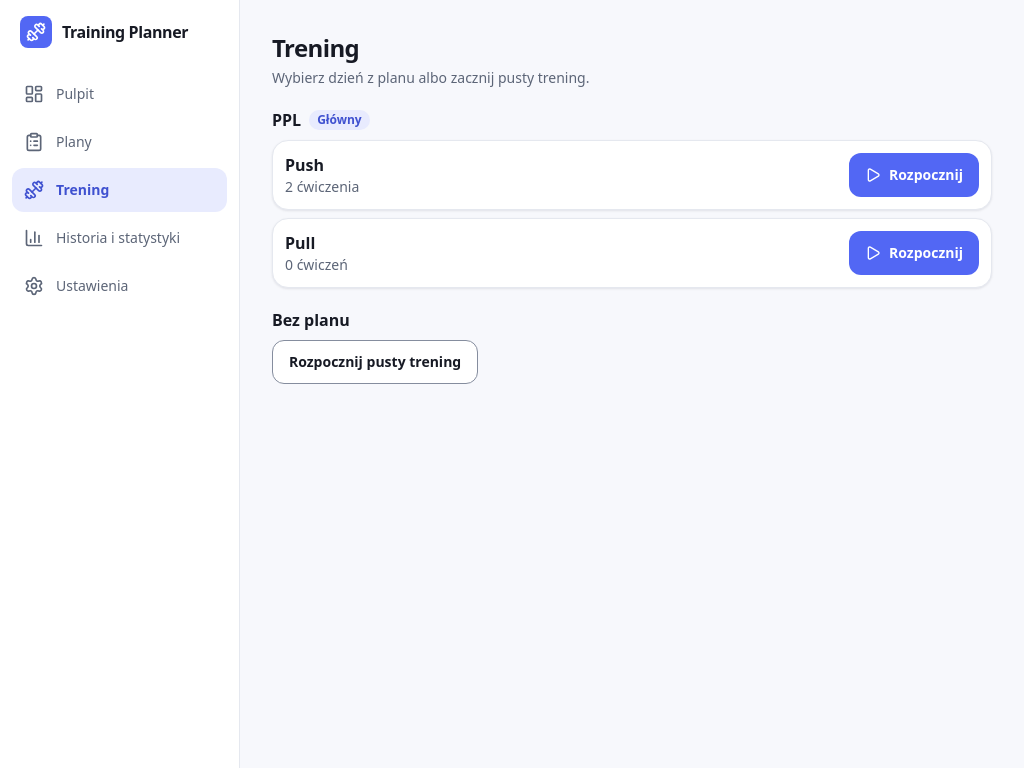
Test: workout › starts from a plan day with nothing pre-recorded; planned values are only hints
Click the button with aria-label "Rozpocznij: Push" at point(914, 175), box [849,153,979,197]
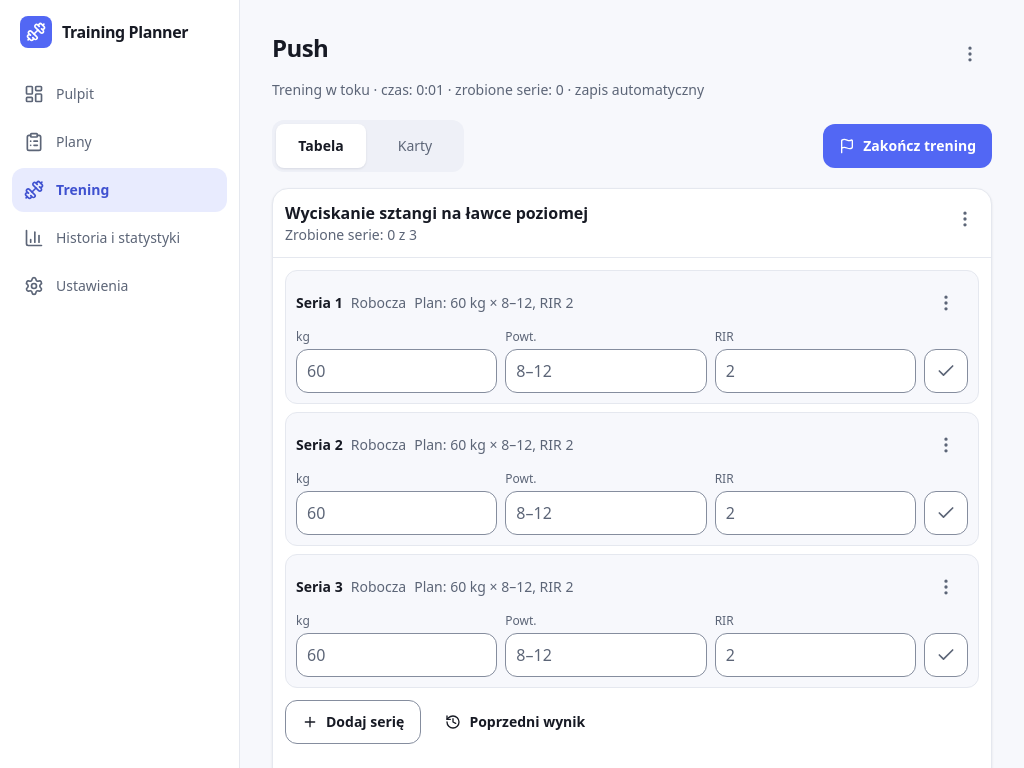
Check: the heading "Push" is shown, box [272,31,328,64]
Check: the text "Zrobione serie: 0 z 3" is shown, box [285,225,417,244]
Check: the 1st text "Plan: 60 kg × 8–12, RIR 2" is shown, box [414,293,574,313]
